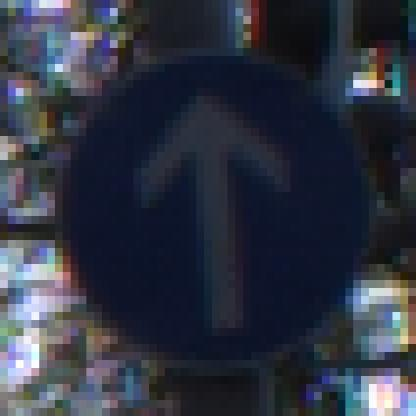straight: (39, 40, 377, 376)
